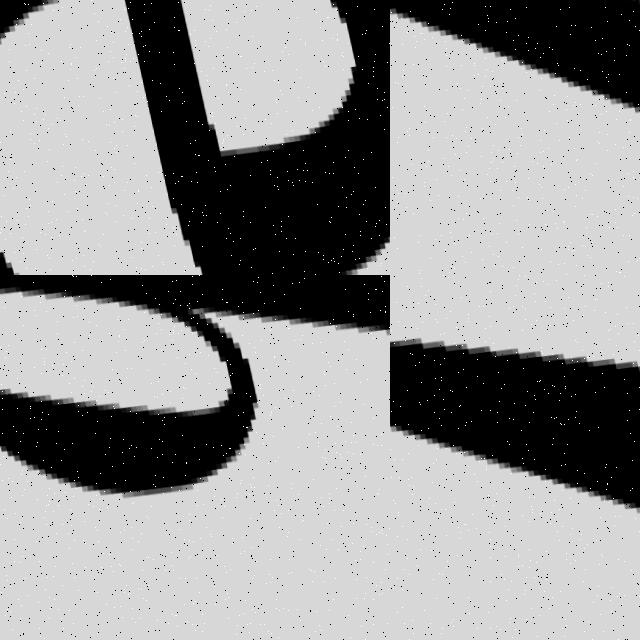E: (115, 0, 390, 275)
V: (390, 275, 640, 640), (390, 0, 640, 275)
